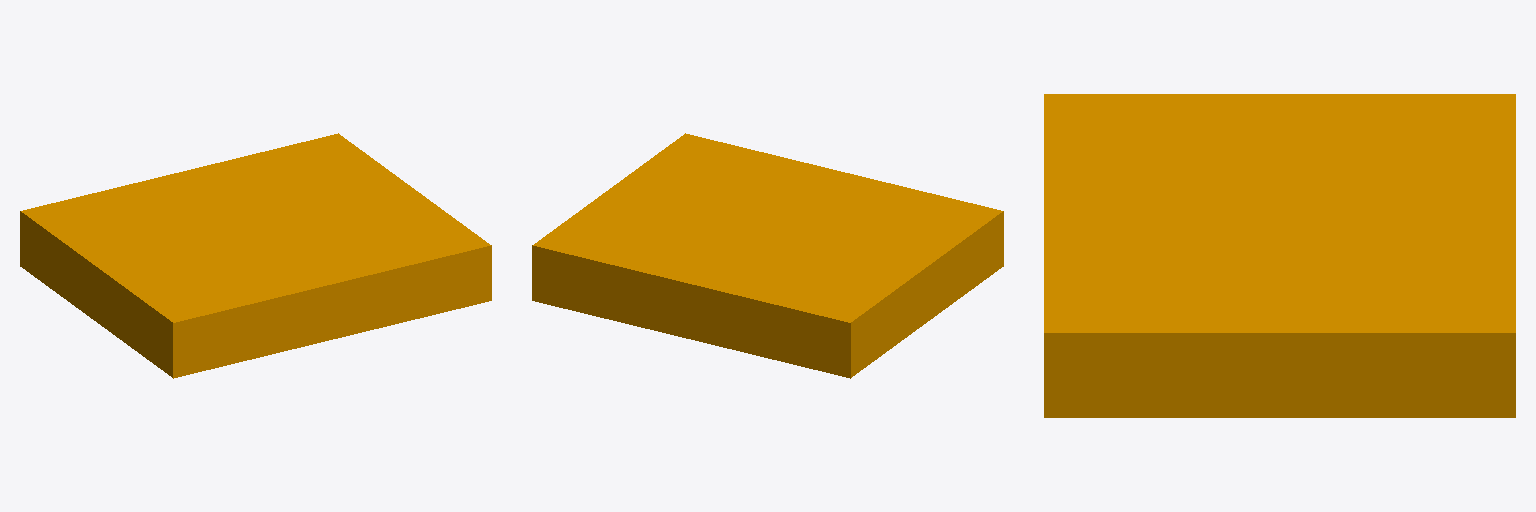
URDF robot description (berrybolter_dual_arm_minimal):
<robot name="berrybolter_dual_arm_minimal">
  <link name="vehicle_link">
    <visual>
      <origin xyz="0 0 0" rpy="0 0 0"/>
      <geometry>
        <box size="0.60 0.50 0.10"/>
      </geometry>
    </visual>
    <collision>
      <origin xyz="0 0 0" rpy="0 0 0"/>
      <geometry>
        <box size="0.60 0.50 0.10"/>
      </geometry>
    </collision>
  </link>

  <link name="right_arm_base_link"/>
  <link name="right_arm_link1"/>
  <link name="right_arm_link2"/>
  <link name="right_arm_link3"/>
  <link name="right_arm_link4"/>
  <link name="right_arm_link5"/>
  <link name="right_arm_link6"/>
  <link name="right_arm_link7"/>
  <link name="right_arm_ee_link"/>

  <link name="left_arm_base_link"/>
  <link name="left_arm_link1"/>
  <link name="left_arm_link2"/>
  <link name="left_arm_link3"/>
  <link name="left_arm_link4"/>
  <link name="left_arm_link5"/>
  <link name="left_arm_link6"/>
  <link name="left_arm_link7"/>
  <link name="left_arm_ee_link"/>

  <joint name="vehicle_to_right_arm" type="fixed">
    <parent link="vehicle_link"/>
    <child link="right_arm_base_link"/>
    <origin xyz="0.28336 0.22875 0.27926" rpy="0 0 -3.141592653589793"/>
  </joint>

  <joint name="right_arm_joint1" type="prismatic">
    <origin xyz="0 0.14775 0.015" rpy="0 0 0"/>
    <parent link="right_arm_base_link"/>
    <child link="right_arm_link1"/>
    <axis xyz="0 1 0"/>
    <limit lower="0.01" upper="0.2" effort="0" velocity="0"/>
  </joint>

  <joint name="right_arm_joint2" type="revolute">
    <origin xyz="0 -0.01 0" rpy="0 0 0"/>
    <parent link="right_arm_link1"/>
    <child link="right_arm_link2"/>
    <axis xyz="0 0 -1"/>
    <limit lower="-6.28" upper="6.28" effort="100" velocity="100"/>
  </joint>

  <joint name="right_arm_joint3" type="prismatic">
    <origin xyz="0.09 -0.0090742 0.15096" rpy="0 0 0"/>
    <parent link="right_arm_link2"/>
    <child link="right_arm_link3"/>
    <axis xyz="0 0 1"/>
    <limit lower="0.01" upper="0.45" effort="100" velocity="100"/>
  </joint>

  <joint name="right_arm_joint4" type="revolute">
    <origin xyz="0.044 -0.0011758 -0.043462" rpy="-3.141592653589793 0 1.666"/>
    <parent link="right_arm_link3"/>
    <child link="right_arm_link4"/>
    <axis xyz="0 0 -1"/>
    <limit lower="-3.14" upper="-0.01" effort="100" velocity="100"/>
  </joint>

  <joint name="right_arm_joint5" type="revolute">
    <origin xyz="0.17 0 0.013" rpy="-3.141592653589793 0 2.3966"/>
    <parent link="right_arm_link4"/>
    <child link="right_arm_link5"/>
    <axis xyz="0 0 -1"/>
    <limit lower="-4.8" upper="-0.01" effort="100" velocity="100"/>
  </joint>

  <joint name="right_arm_joint6" type="revolute">
    <origin xyz="0.15961 0.00055813 -0.031456" rpy="0 0 1.9687"/>
    <parent link="right_arm_link5"/>
    <child link="right_arm_link6"/>
    <axis xyz="0 0 1"/>
    <limit lower="-3.869" upper="-0.01" effort="100" velocity="100"/>
  </joint>

  <joint name="right_arm_joint7" type="revolute">
    <origin xyz="0.074633 -0.00014535 -0.038644" rpy="-1.570796326794897 0 -1.570796326794897"/>
    <parent link="right_arm_link6"/>
    <child link="right_arm_link7"/>
    <axis xyz="0 0 -1"/>
    <limit lower="-3.14" upper="3.14" effort="100" velocity="100"/>
  </joint>

  <joint name="right_arm_ee_joint" type="fixed">
    <origin xyz="5.31363646517069E-05 -0.000500000000002027 0.0665000000000101" rpy="0 0 0"/>
    <parent link="right_arm_link7"/>
    <child link="right_arm_ee_link"/>
    <axis xyz="0 0 0"/>
    <limit lower="0" upper="0" effort="0" velocity="0"/>
  </joint>

  <joint name="vehicle_to_left_arm" type="fixed">
    <parent link="vehicle_link"/>
    <child link="left_arm_base_link"/>
    <origin xyz="-0.28336 -0.22875 0.3126" rpy="0 0 0"/>
  </joint>

  <joint name="left_arm_joint1" type="prismatic">
    <origin xyz="0 0.14775 0.015" rpy="0 0 0"/>
    <parent link="left_arm_base_link"/>
    <child link="left_arm_link1"/>
    <axis xyz="0 1 0"/>
    <limit lower="0.01" upper="0.2" effort="0" velocity="0"/>
  </joint>

  <joint name="left_arm_joint2" type="revolute">
    <origin xyz="0 -0.01 0" rpy="0 0 0"/>
    <parent link="left_arm_link1"/>
    <child link="left_arm_link2"/>
    <axis xyz="0 0 -1"/>
    <limit lower="-6.28" upper="6.28" effort="100" velocity="100"/>
  </joint>

  <joint name="left_arm_joint3" type="prismatic">
    <origin xyz="0.09 -0.0090742 0.15096" rpy="0 0 0"/>
    <parent link="left_arm_link2"/>
    <child link="left_arm_link3"/>
    <axis xyz="0 0 1"/>
    <limit lower="0.01" upper="0.45" effort="100" velocity="100"/>
  </joint>

  <joint name="left_arm_joint4" type="revolute">
    <origin xyz="0.044 -0.0011758 -0.043462" rpy="-3.141592653589793 0 1.666"/>
    <parent link="left_arm_link3"/>
    <child link="left_arm_link4"/>
    <axis xyz="0 0 -1"/>
    <limit lower="-3.14" upper="-0.01" effort="100" velocity="100"/>
  </joint>

  <joint name="left_arm_joint5" type="revolute">
    <origin xyz="0.17 0 0.013" rpy="-3.141592653589793 0 2.3966"/>
    <parent link="left_arm_link4"/>
    <child link="left_arm_link5"/>
    <axis xyz="0 0 -1"/>
    <limit lower="-4.8" upper="-0.01" effort="100" velocity="100"/>
  </joint>

  <joint name="left_arm_joint6" type="revolute">
    <origin xyz="0.15961 0.00055813 -0.031456" rpy="0 0 1.9687"/>
    <parent link="left_arm_link5"/>
    <child link="left_arm_link6"/>
    <axis xyz="0 0 1"/>
    <limit lower="-3.869" upper="-0.01" effort="100" velocity="100"/>
  </joint>

  <joint name="left_arm_joint7" type="revolute">
    <origin xyz="0.074633 -0.00014535 -0.038644" rpy="-1.570796326794897 0 -1.570796326794897"/>
    <parent link="left_arm_link6"/>
    <child link="left_arm_link7"/>
    <axis xyz="0 0 -1"/>
    <limit lower="-3.14" upper="3.14" effort="100" velocity="100"/>
  </joint>

  <joint name="left_arm_ee_joint" type="fixed">
    <origin xyz="5.31363646517069E-05 -0.000500000000002027 0.0665000000000101" rpy="0 0 0"/>
    <parent link="left_arm_link7"/>
    <child link="left_arm_ee_link"/>
    <axis xyz="0 0 0"/>
    <limit lower="0" upper="0" effort="0" velocity="0"/>
  </joint>
</robot>

--- Facts derived from the render (not from the file) ---
The picture shows the robot from 3 angles, left to right: view 1: azimuth 30°, elevation 25°; view 2: azimuth 150°, elevation 25°; view 3: azimuth 270°, elevation 25°; orthographic projection.
Robot: berrybolter_dual_arm_minimal — 19 links, 18 joints (10 revolute, 4 prismatic, 4 fixed); root link vehicle_link; default pose: joints at zero except 10 at the middle of their limits (right_arm_joint1 = 0.105, right_arm_joint3 = 0.23, right_arm_joint4 = -1.57, right_arm_joint5 = -2.4, right_arm_joint6 = -1.94, left_arm_joint1 = 0.105, +4 more).
Links seen in each view (by area): view 1: vehicle_link; view 2: vehicle_link; view 3: vehicle_link.
Link boxes in pixels (left/top/right/bottom): vehicle_link: left=20, top=133, right=491, bottom=378; vehicle_link: left=532, top=133, right=1003, bottom=378; vehicle_link: left=1044, top=94, right=1515, bottom=417.
Bounding box of the posed robot: 0.6 × 0.5 × 0.1 m (x, y, z).
Geometry: primitives only (box / cylinder / sphere), no mesh files.
